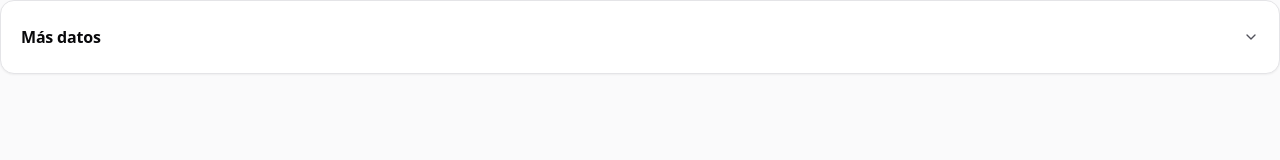
Test: Panel › plegable: el título es un botón con aria-expanded que abre y cierra el contenido
This screenshot has width=1280, height=160.
Expected: the text "Serial SN-4471" is not shown
Click the button "Más datos" at point(61, 37), box [13,13,1267,61]
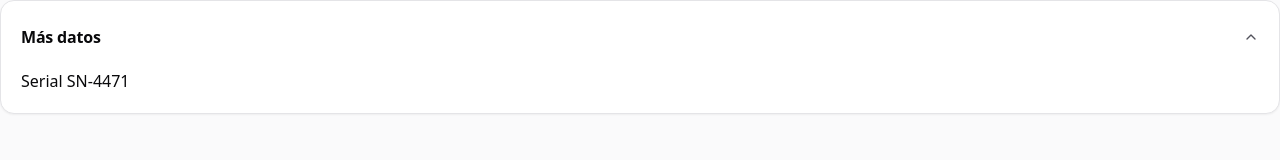
Expected: the heading "Más datos" is shown, [21,17,1259,57]
Result: the button "Más datos" is expanded at [13,13,1267,61]
Result: the text "Serial SN-4471" is shown at [21,70,130,92]
